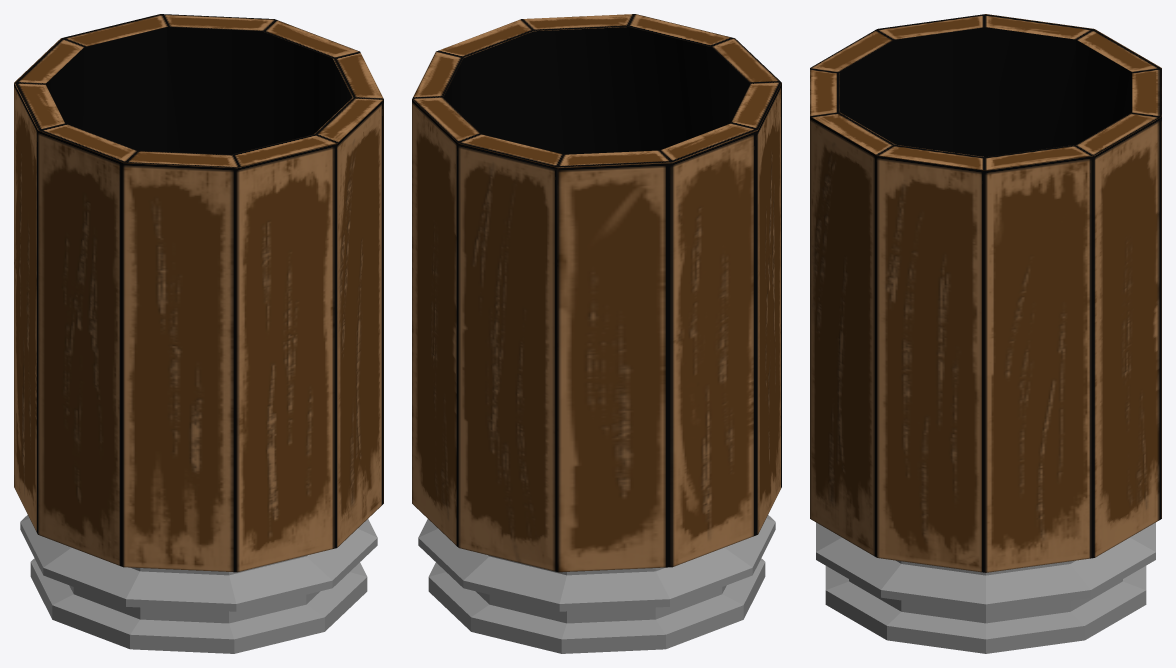
File: thrash_textured.fbx
The picture shows the model from 3 angles, left to right: view 1: azimuth 30°, elevation 25°; view 2: azimuth 150°, elevation 25°; view 3: azimuth 270°, elevation 25°; orthographic projection.
Visible parts, largest first — view 1: polySurface4; view 2: polySurface4; view 3: polySurface4.
Boxes of the visible parts, left/top/right/bottom form: polySurface4: left=14, top=14, right=383, bottom=653; polySurface4: left=412, top=14, right=781, bottom=653; polySurface4: left=810, top=14, right=1161, bottom=653.
Bounding box in the file's own units: 2.77 × 4.05 × 2.63.
1 material, 1 textured.
